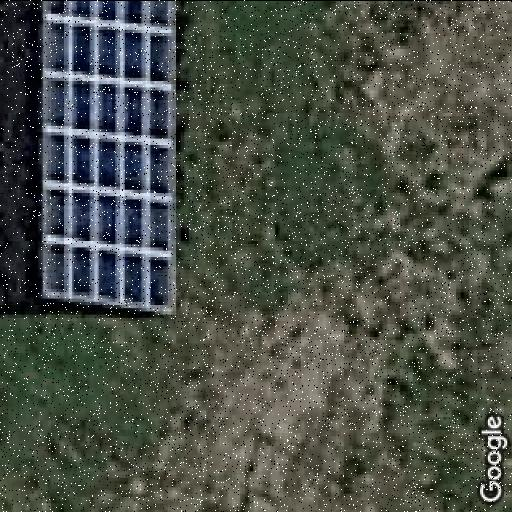solar-panel: (48, 0, 174, 317)
